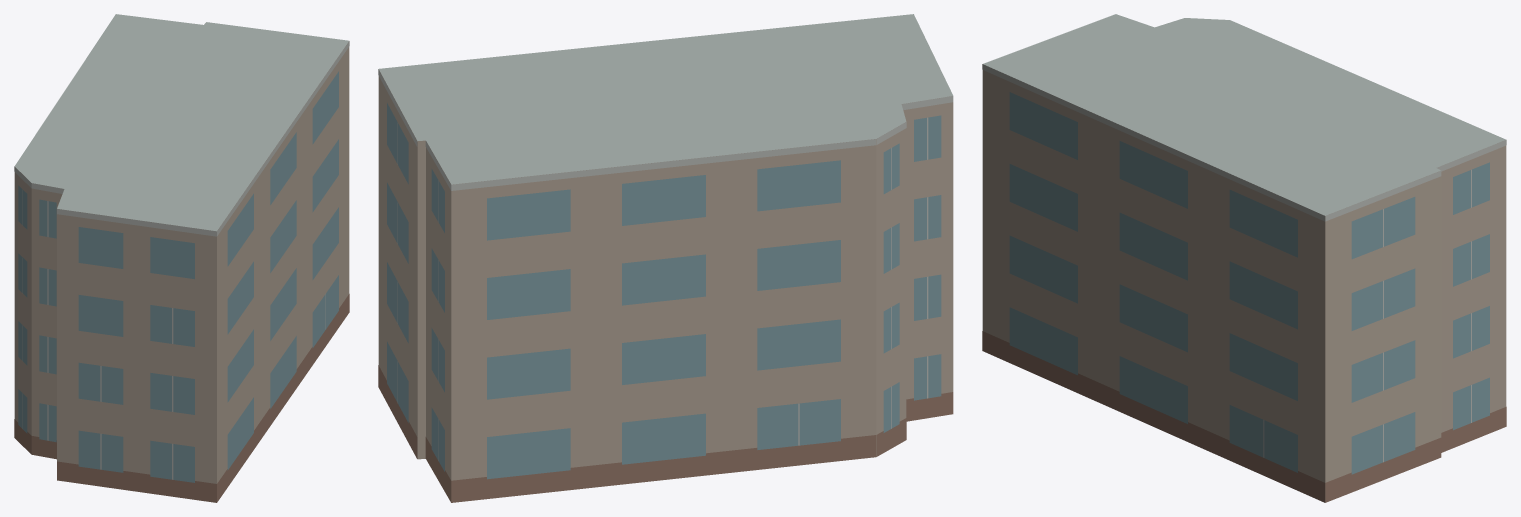
File: survey-upis-32586209.glb
The picture shows the model from 3 angles, left to right: view 1: azimuth 30°, elevation 25°; view 2: azimuth 150°, elevation 25°; view 3: azimuth 270°, elevation 25°; orthographic projection. The views are drawn at different scales.
Visible parts, largest first — view 1: survey-upis-32586209.tmp; view 2: survey-upis-32586209.tmp; view 3: survey-upis-32586209.tmp.
Boxes of the visible parts, bbox=[...] form: survey-upis-32586209.tmp: bbox=[14, 14, 349, 502]; survey-upis-32586209.tmp: bbox=[378, 14, 953, 502]; survey-upis-32586209.tmp: bbox=[982, 14, 1506, 502].
Bounding box in the file's own units: 18.42 × 12.2 × 20.19.
